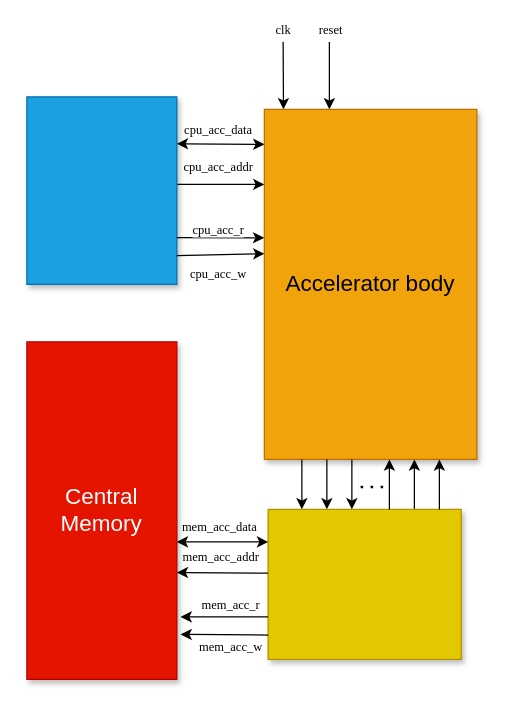
Some shapes in this 506 by 711 pixel diagram are drawn without their labels. The shapes that lost their labels are listed below. From the top down, each one's centre as x and y in pixels, then its label:
At (102,192): "Core".
At (365,585): "Scratchpad Memory".
